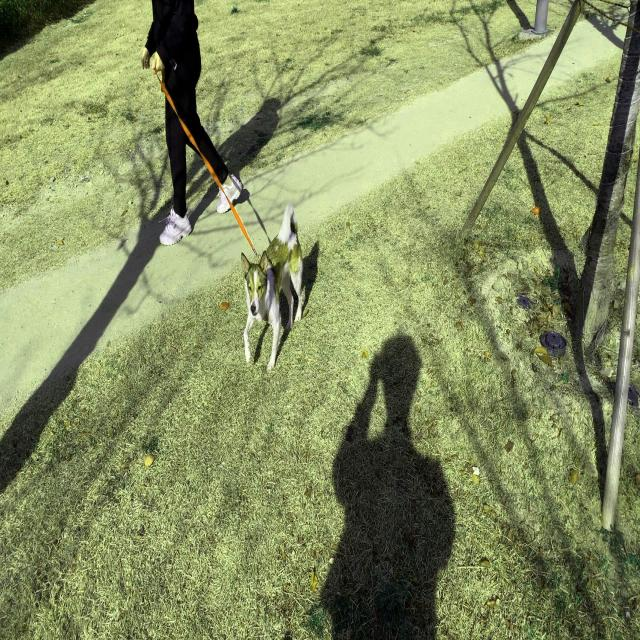Leashed_Dog: (178, 108, 312, 374)
